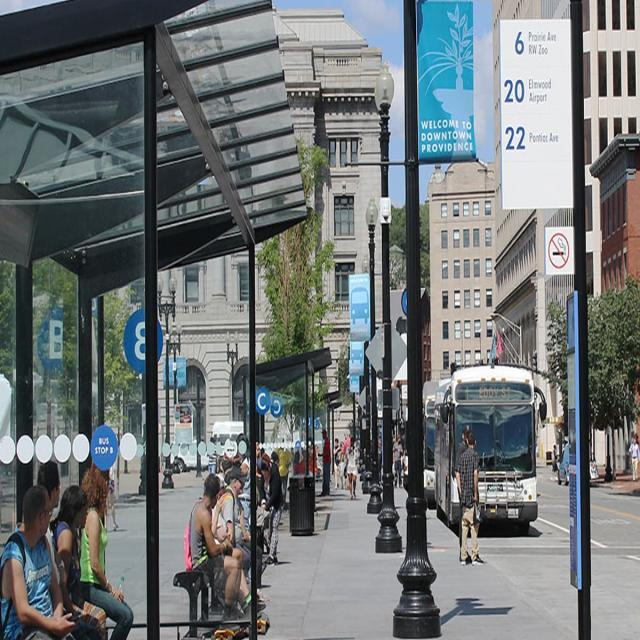body: (0, 483, 75, 639), (78, 464, 134, 640), (188, 472, 245, 631), (53, 483, 106, 640), (37, 461, 74, 614), (208, 466, 270, 556), (454, 430, 484, 567), (218, 466, 252, 586), (258, 452, 284, 566), (454, 424, 473, 565), (235, 432, 251, 532), (275, 436, 292, 508), (240, 564, 266, 610), (316, 427, 331, 497), (104, 465, 119, 533), (292, 437, 316, 479), (344, 436, 359, 501), (392, 434, 404, 491), (627, 435, 640, 482), (205, 436, 219, 476), (332, 436, 342, 491), (339, 439, 348, 488), (343, 436, 351, 488), (172, 402, 192, 421), (256, 440, 262, 486), (262, 445, 271, 467), (550, 444, 558, 461)
